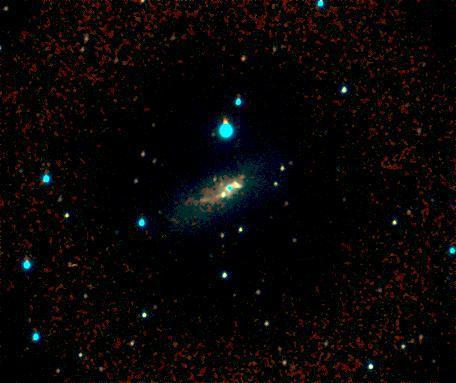star: (228, 161, 258, 191)
